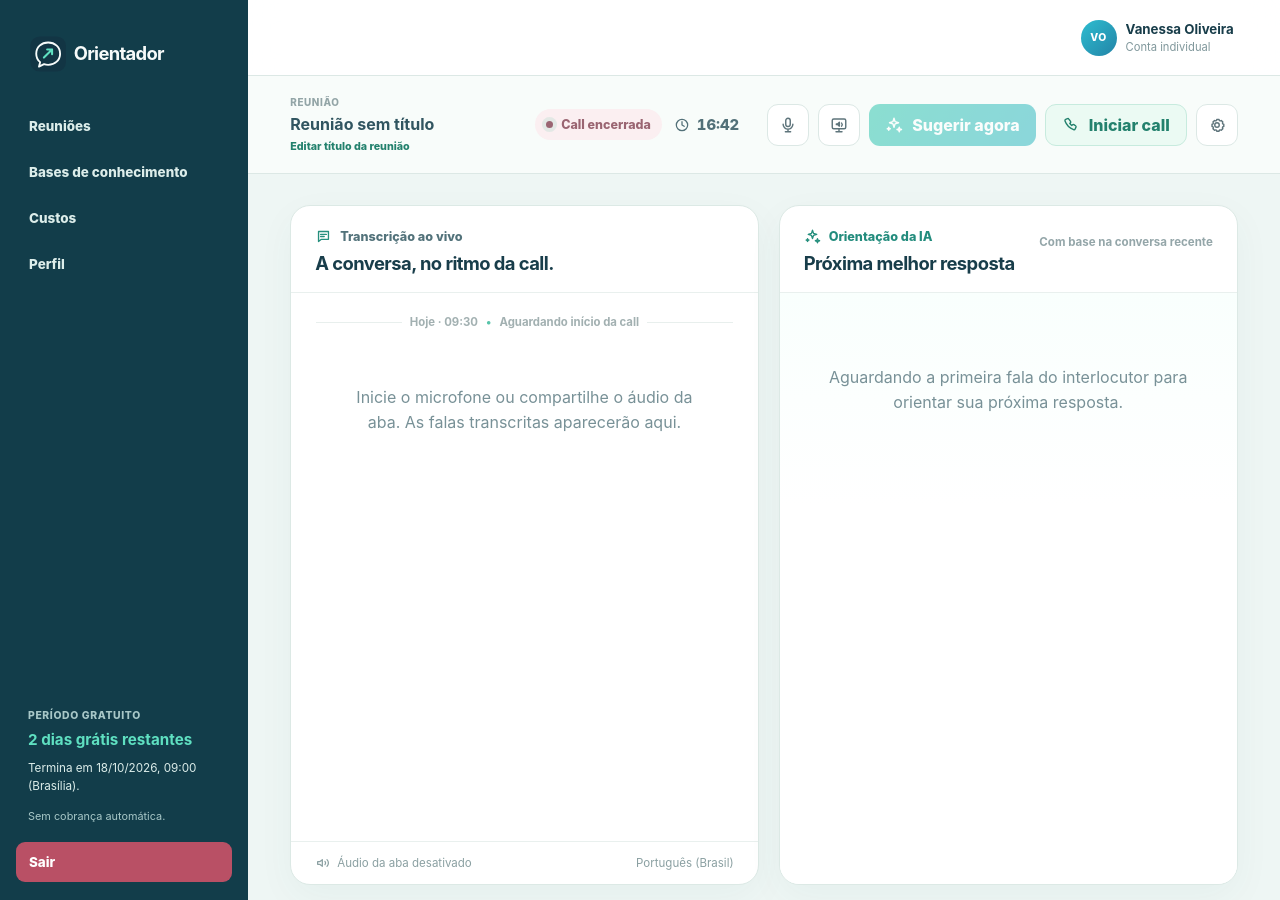
Test case: tela principal de call › avisa imediatamente quando a seleção não fornece áudio da aba
This screenshot has width=1280, height=900.
Expected: the heading "A conversa, no ritmo da call." is shown, [315,252,554,274]
Click the button named "Escutar áudio da aba" at coordinates (839, 125), box [818,104,860,146]
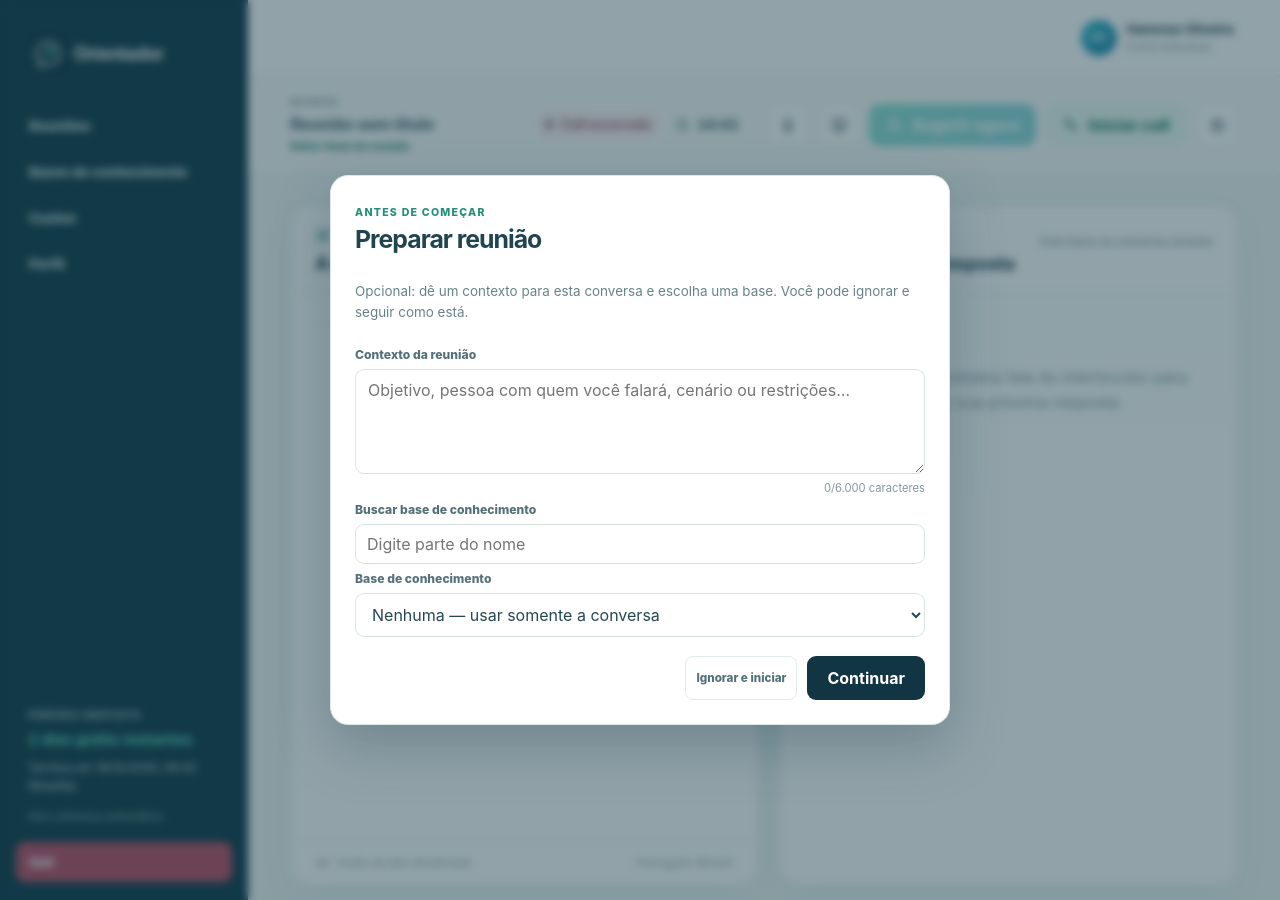
Click the button "Ignorar e iniciar" at coordinates (741, 678), box [685,656,797,700]
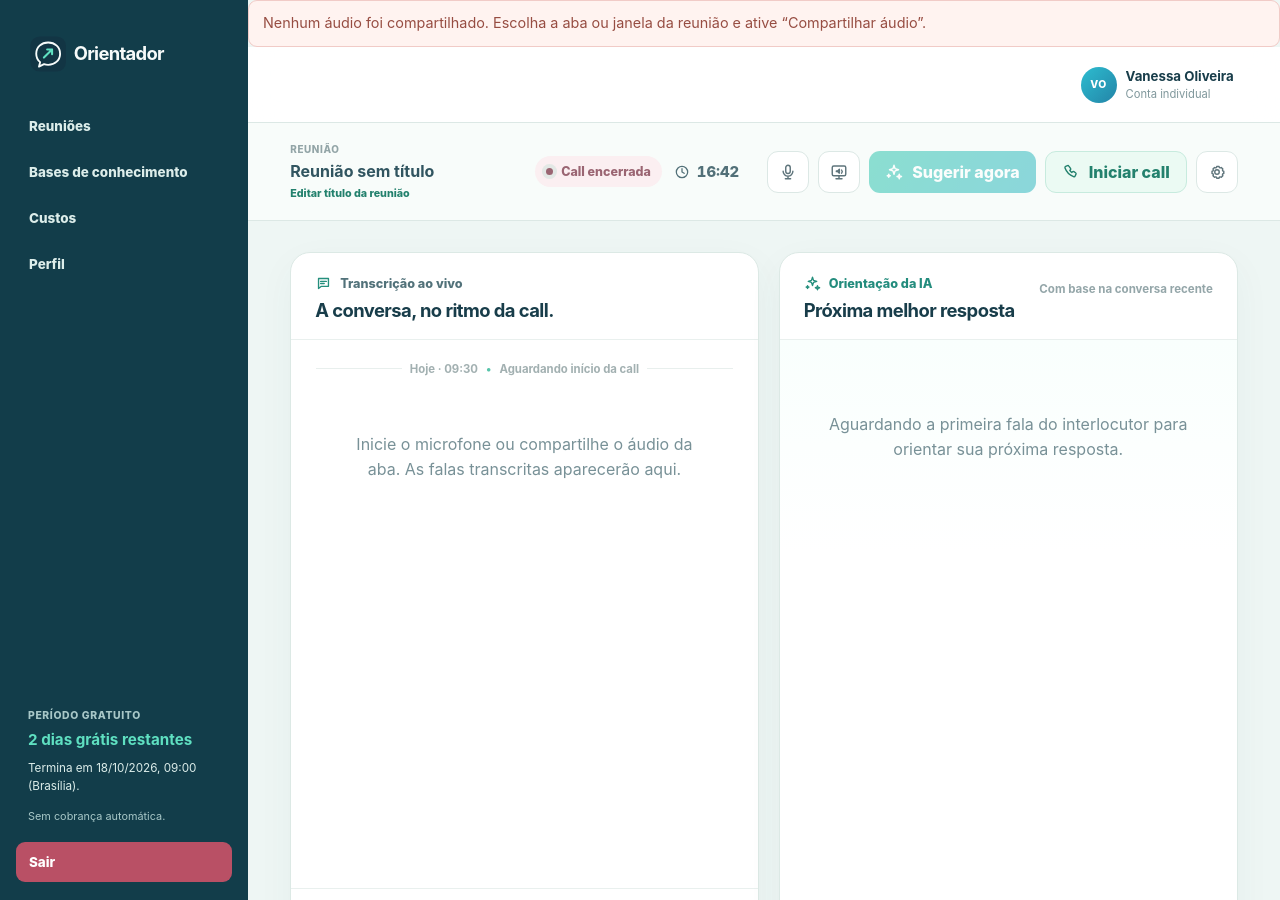
Expected: the 1st message shows "Nenhum áudio foi compartilhado", [263,14,926,31]
